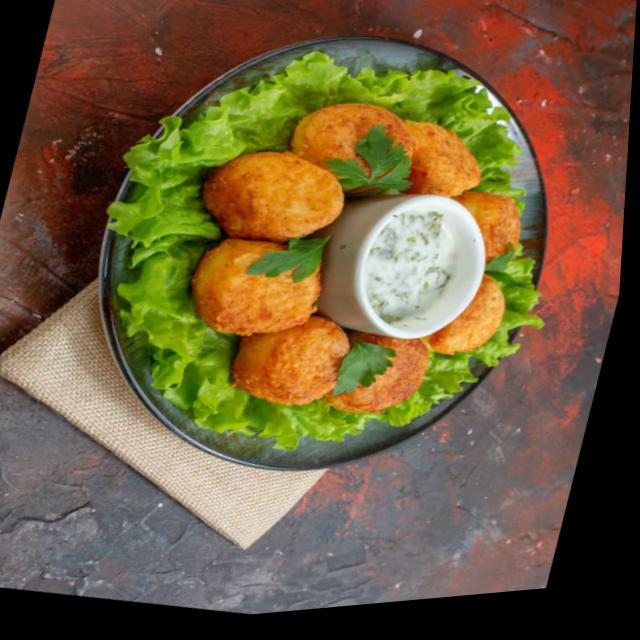BONDA: (178, 105, 536, 429), (328, 183, 485, 348)
CURD: (352, 197, 475, 336)
